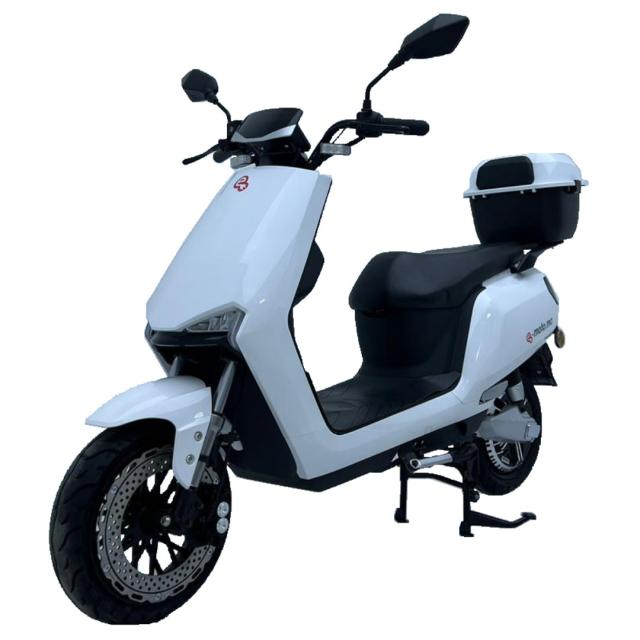Motorcycle: (50, 14, 589, 625)
